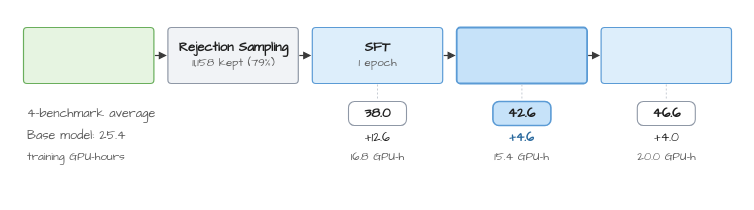
The diagram is 754 pixels wide and 210 high, and some of its shapes have lost their labels. The shapes that lost their labels are listed below. From the top down, each one's box as (x1, y1, x2, y2) in pixels, then its label:
(22, 26, 154, 84): Teacher Solutions 14,116 problems
(455, 26, 588, 84): Scaffold-OPD 40 steps
(600, 26, 732, 84): GRPO on Failures 2,212 problems · 30 steps
